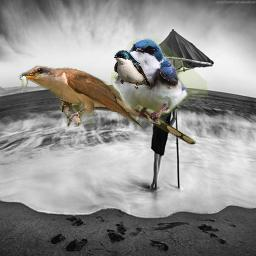Cuckoo: (16, 65, 197, 145)
Swallow: (111, 38, 208, 123), (114, 50, 151, 90)
